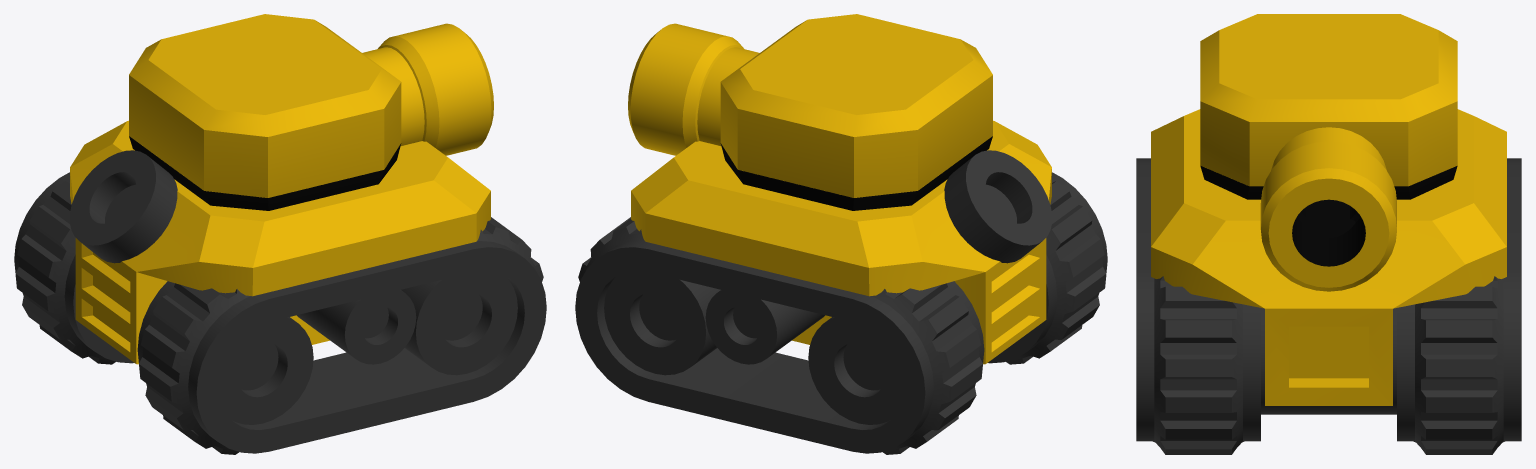
Rendered from cube_tank_gold.glb.
3 renders of one model, left to right at view 1: azimuth 30°, elevation 25°; view 2: azimuth 150°, elevation 25°; view 3: azimuth 270°, elevation 25°, orthographic. The views are drawn at different scales.
Visible parts, largest first — view 1: cube_tankgold; view 2: cube_tankgold; view 3: cube_tankgold.
Part boxes in pixels (box(x1,y1,x2,y2)): cube_tankgold: box(14, 14, 546, 454); cube_tankgold: box(575, 14, 1107, 454); cube_tankgold: box(1136, 14, 1521, 454).
Size of the model in its own units: 2.66 by 2.03 by 2.16.
